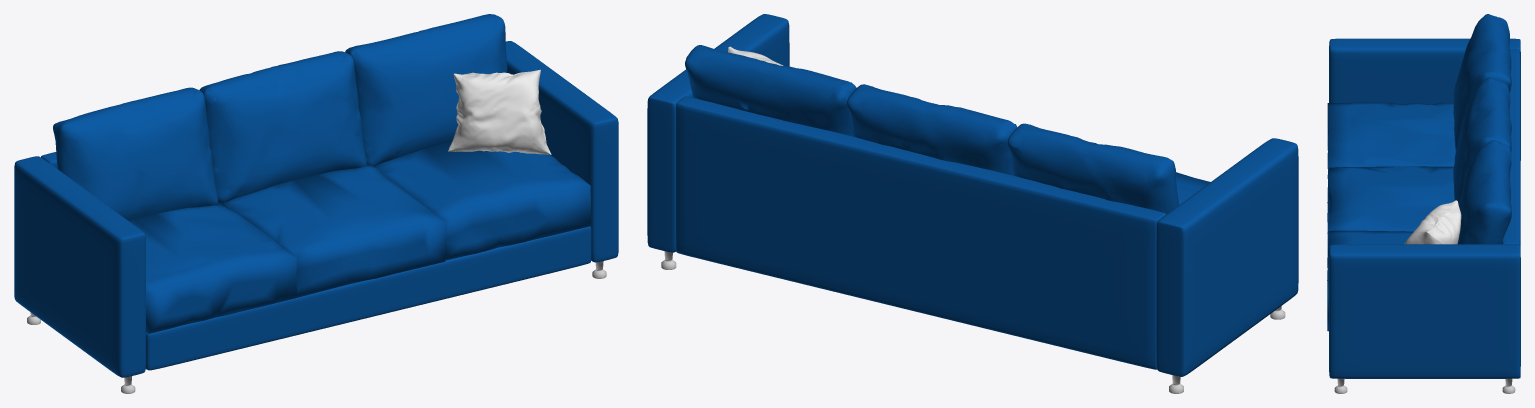
File: couch.glb
3 views of the same model, side by side, from view 1: azimuth 30°, elevation 25°; view 2: azimuth 150°, elevation 25°; view 3: azimuth 270°, elevation 25° (orthographic). The views are drawn at different scales.
Parts seen in each view (by area): view 1: pillow.001; view 2: pillow.001; view 3: pillow.001.
Boxes of the visible parts, x1,y1,x2,y2 form: pillow.001: (14, 14, 618, 393); pillow.001: (647, 14, 1298, 393); pillow.001: (1327, 14, 1520, 393).
Bounding box in the file's own units: 2.02 × 0.7856 × 0.7596.
